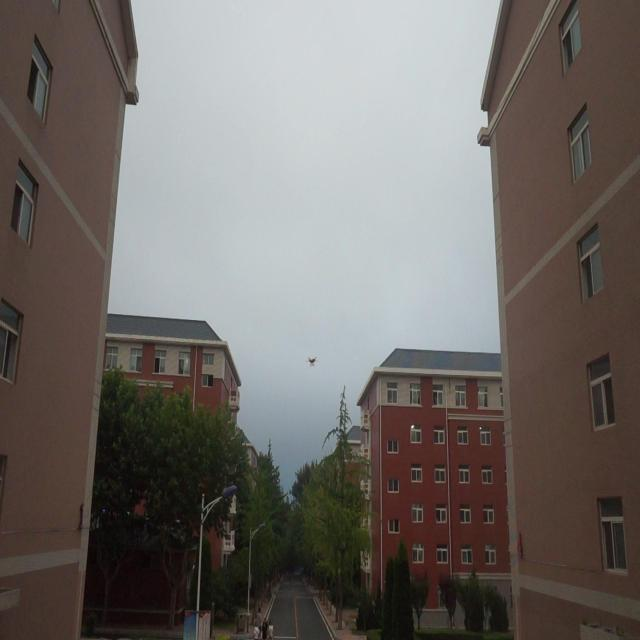drone: (304, 352, 320, 372)
